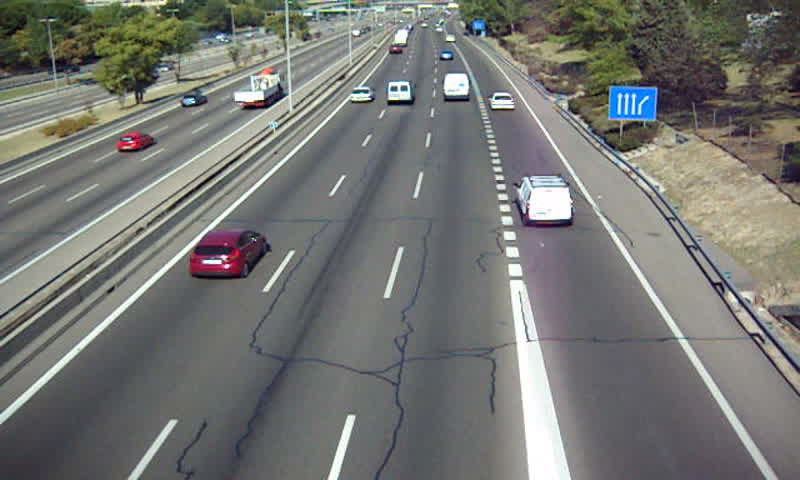car: (187, 230, 266, 280), (488, 91, 515, 110), (348, 86, 375, 105)
van: (519, 175, 572, 227), (442, 74, 471, 100), (388, 81, 415, 106)
